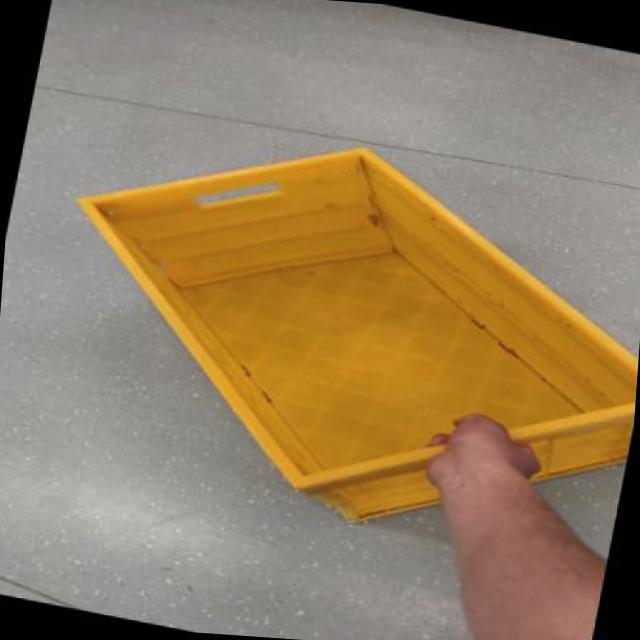box: (3, 73, 640, 580)
